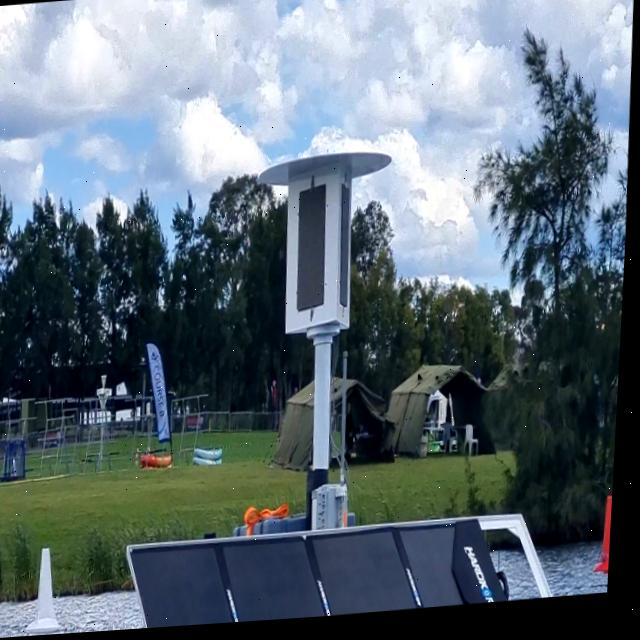led: (287, 178, 339, 332)
